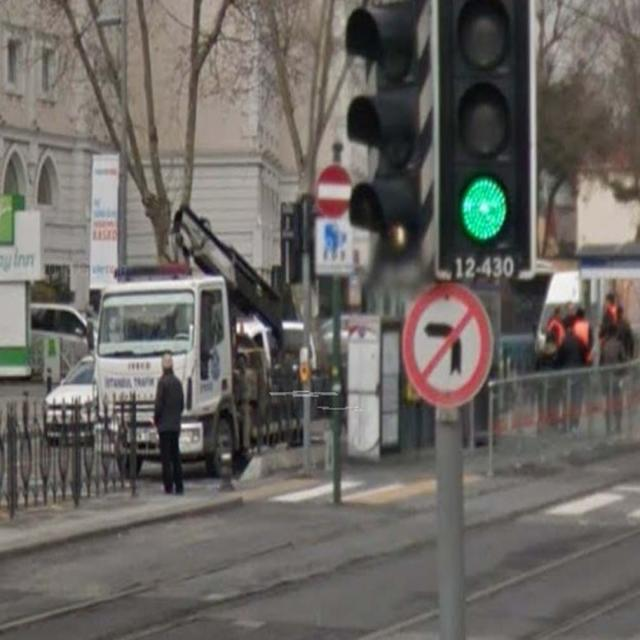girisyok: (316, 164, 352, 218)
soladonulmez: (400, 280, 494, 408)
yesil: (432, 28, 536, 278)
